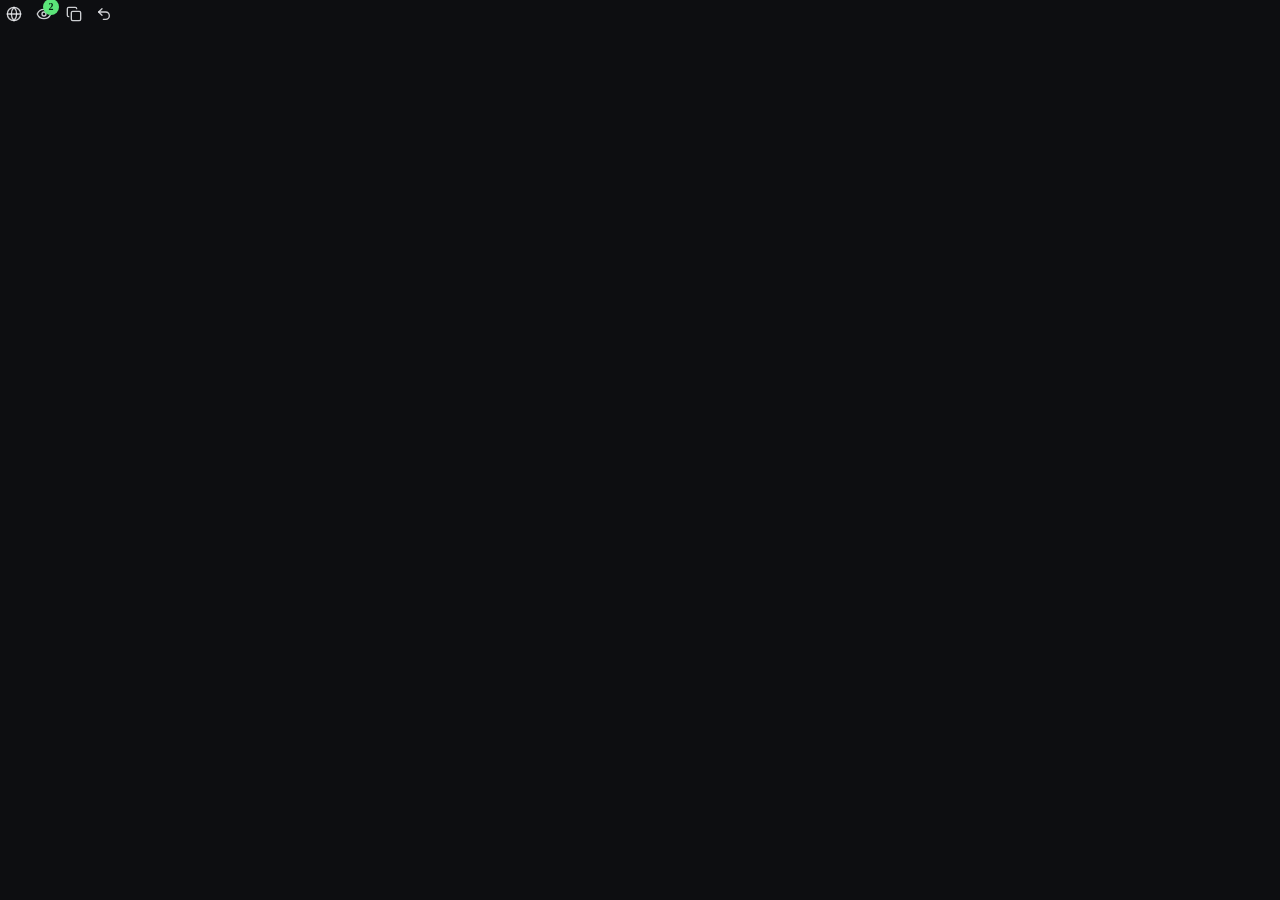
Scenario: post actions › creates a preview link to copy and lists the feedback threads with emails, replies and resolves
This screenshot has width=1280, height=900.
Click the button named "Preview and feedback, 2 open comments": [44, 14] box left=30, top=0, right=58, bottom=28
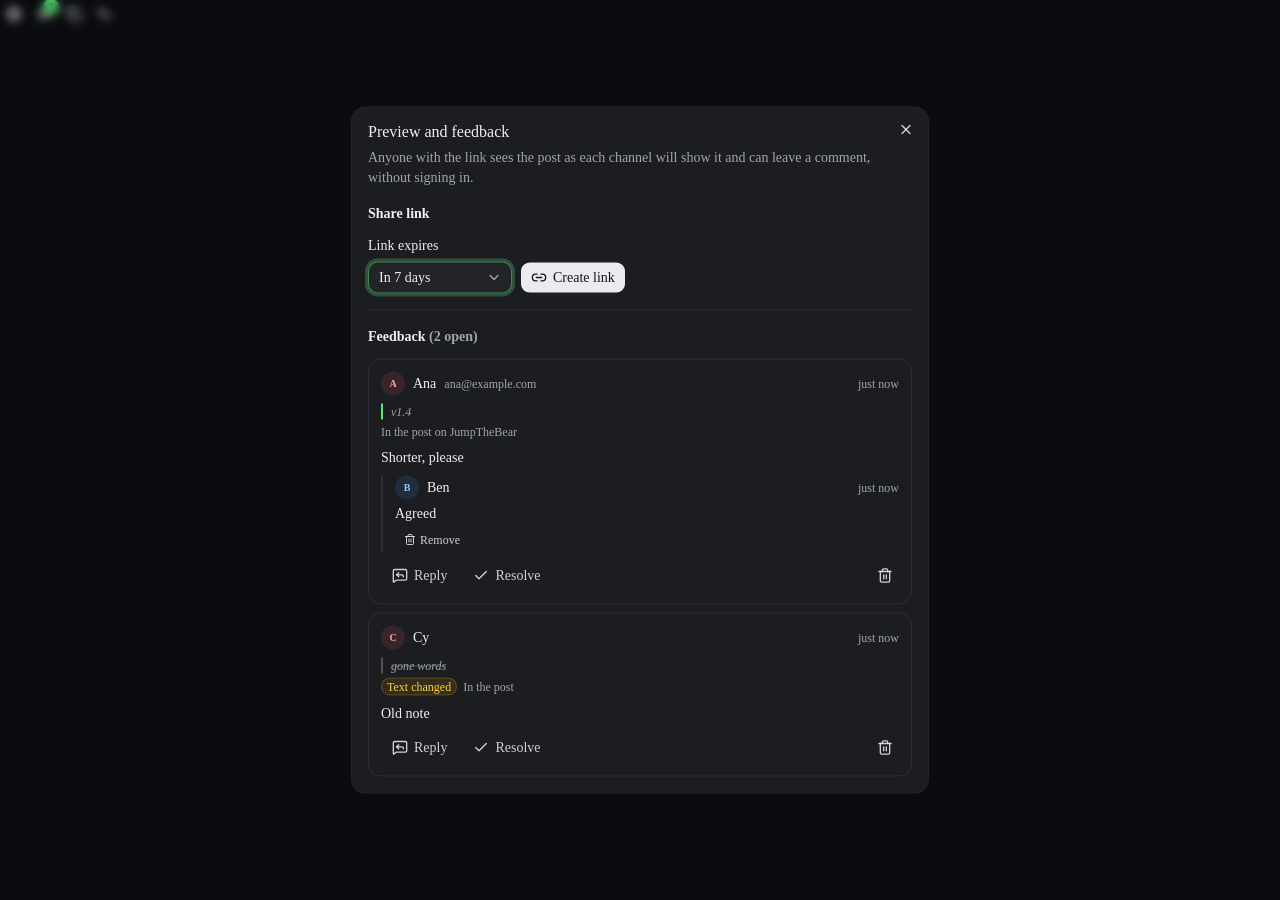
expect the link "ana@example.com" is shown: met, box left=444, top=376, right=536, bottom=392
expect the text "Shorter, please" is shown: met, box left=381, top=450, right=464, bottom=464
expect the text "Agreed" is shown: met, box left=395, top=506, right=436, bottom=520
Click the button "Reply" below "ana@example.com": [420, 576] box left=381, top=560, right=458, bottom=592
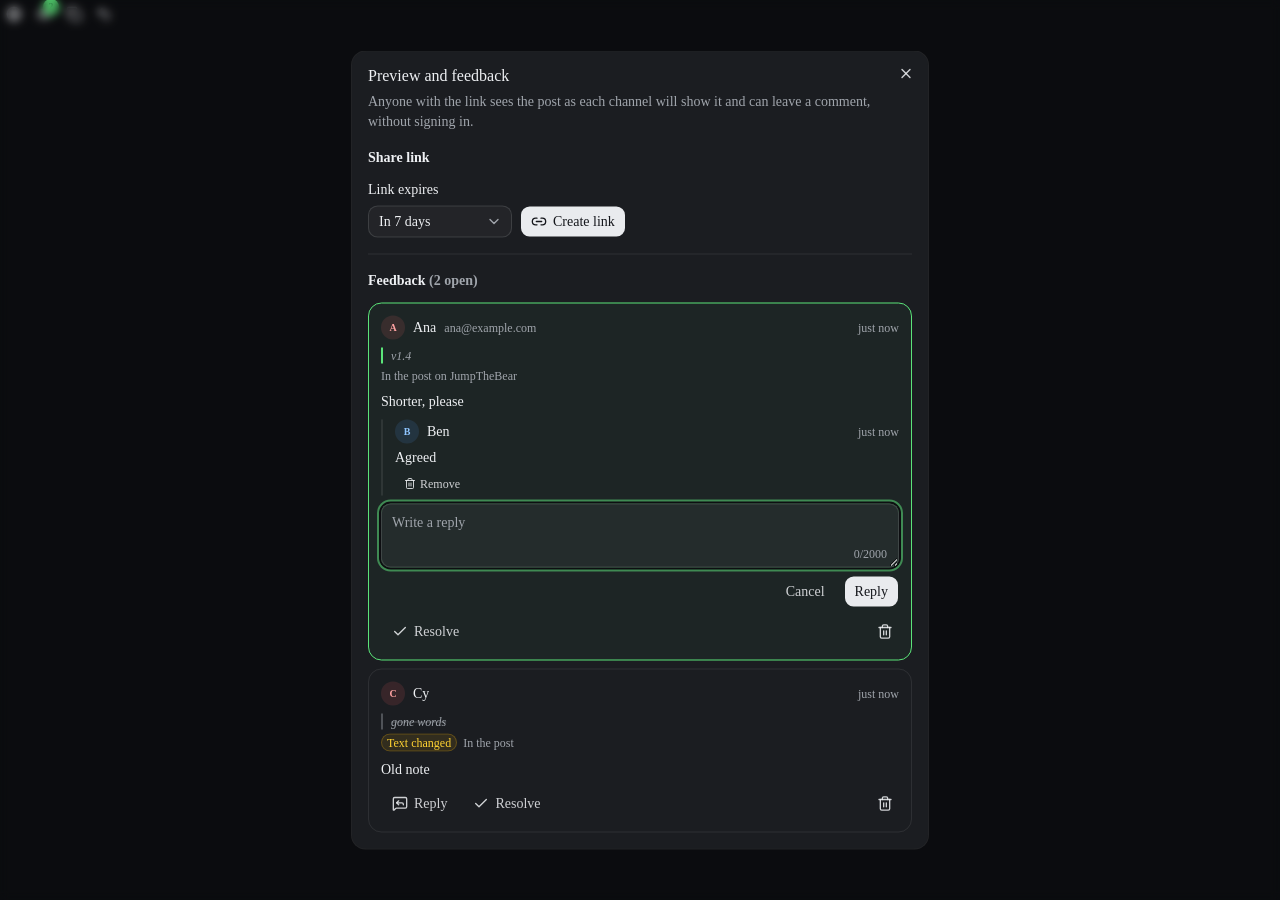
In the text box with placeholder "Write a reply": [640, 536] box left=381, top=504, right=899, bottom=568, type "Done"
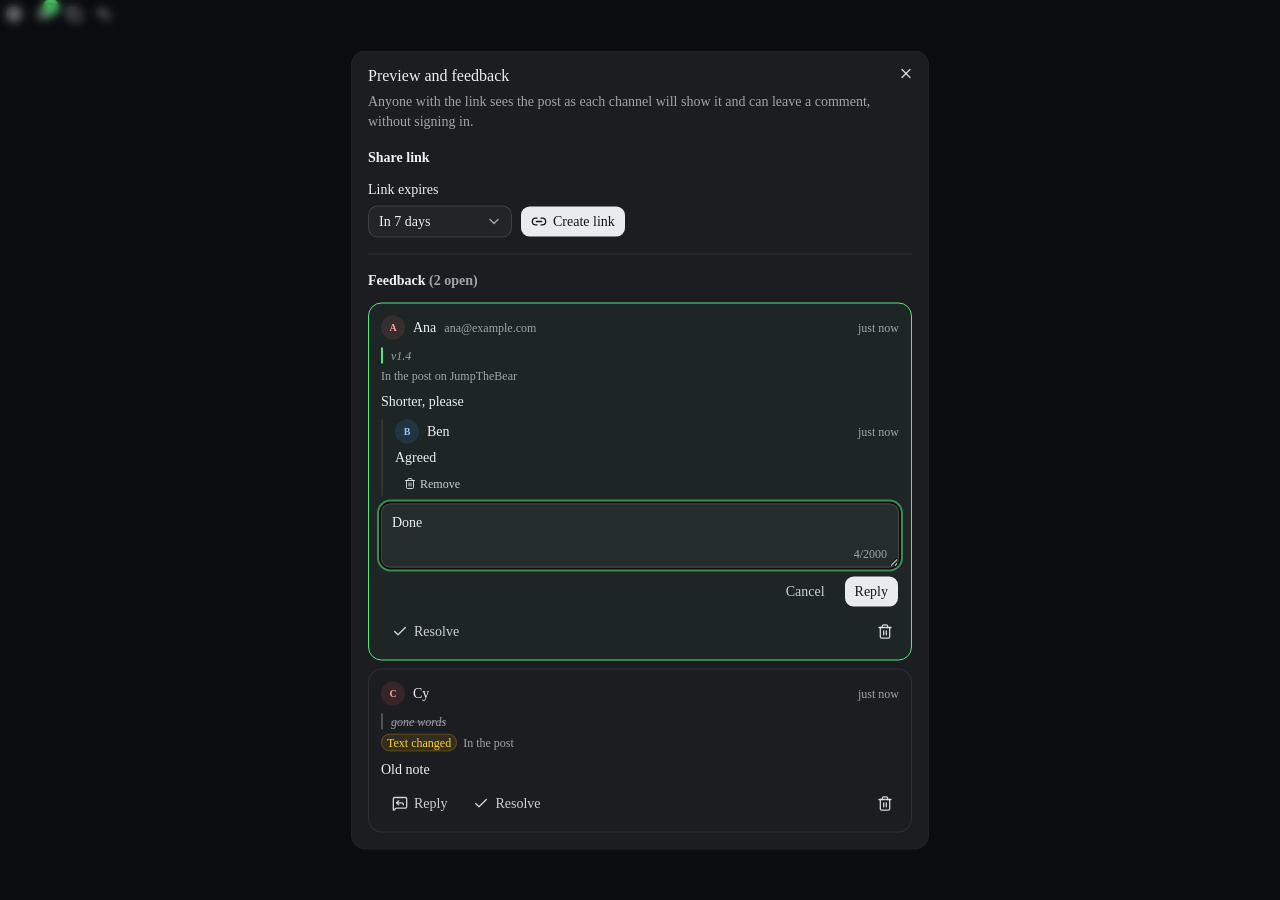
Click the button "Reply" below "2000": [871, 592] box left=844, top=576, right=899, bottom=608
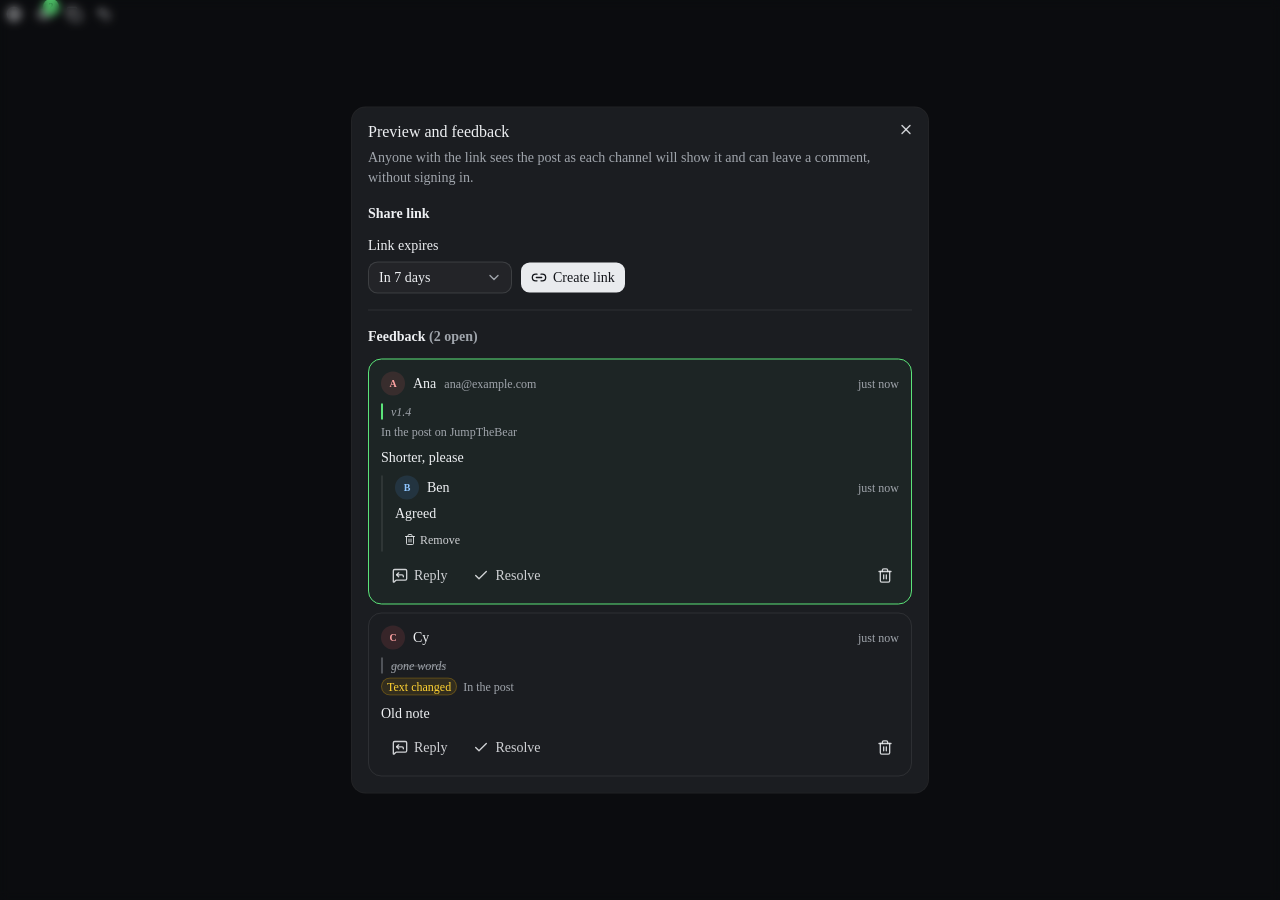
Click the button "Resolve" below "ana@example.com": [507, 576] box left=462, top=560, right=552, bottom=592
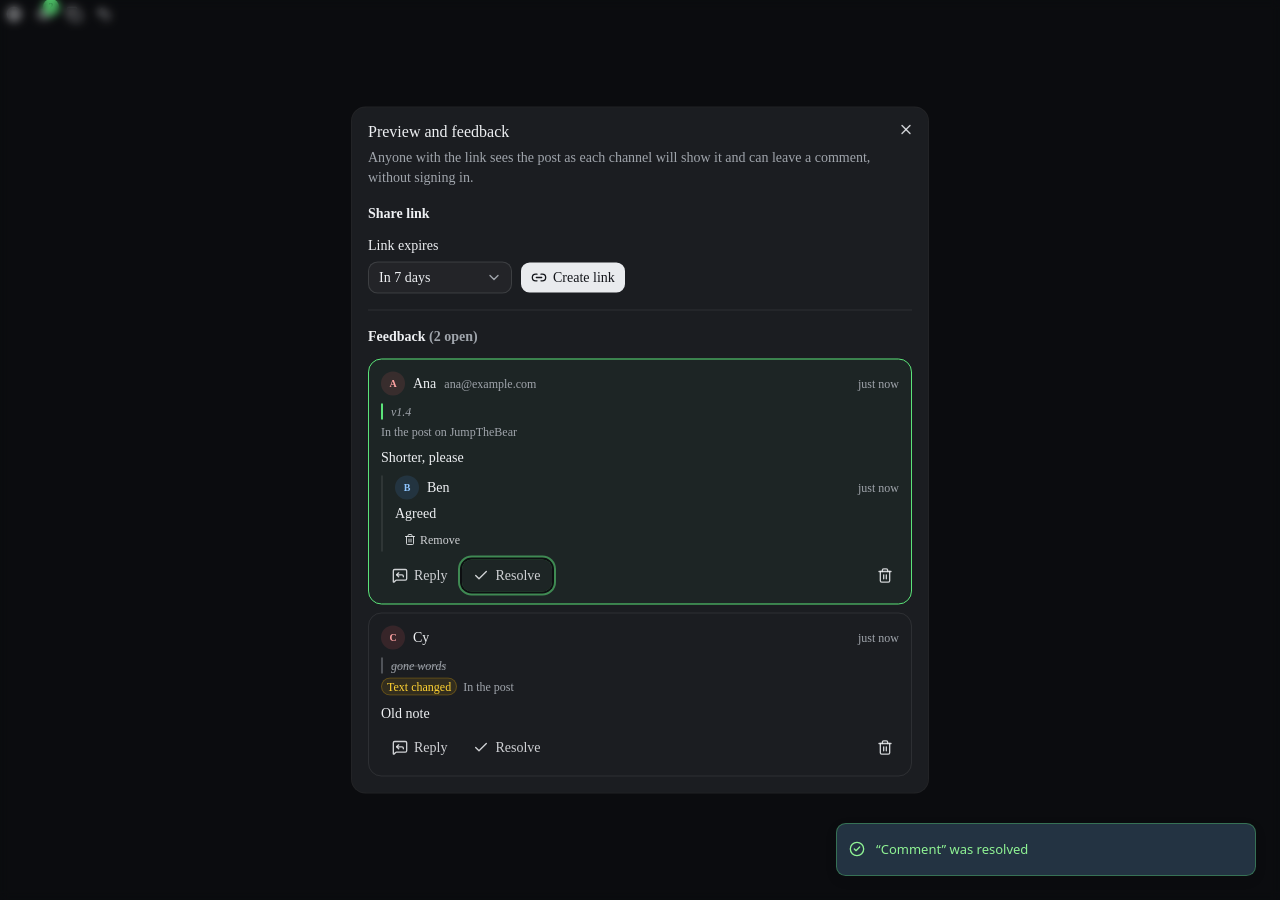
Click the button with test id "create-preview": [573, 278] box left=520, top=262, right=626, bottom=294
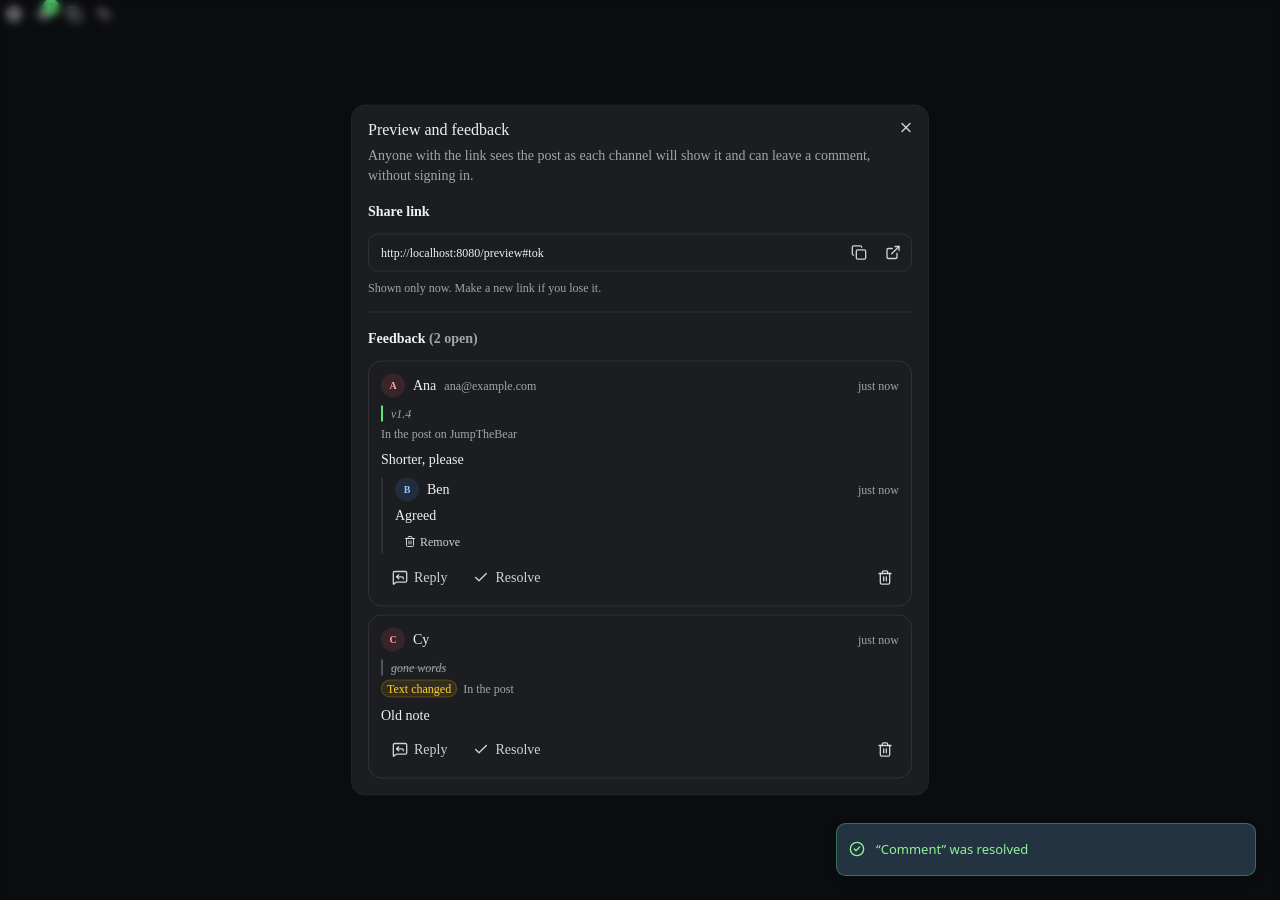
expect the text with test id "preview-url" reads "http://localhost:8080/preview#tok": met, box left=381, top=246, right=544, bottom=260
